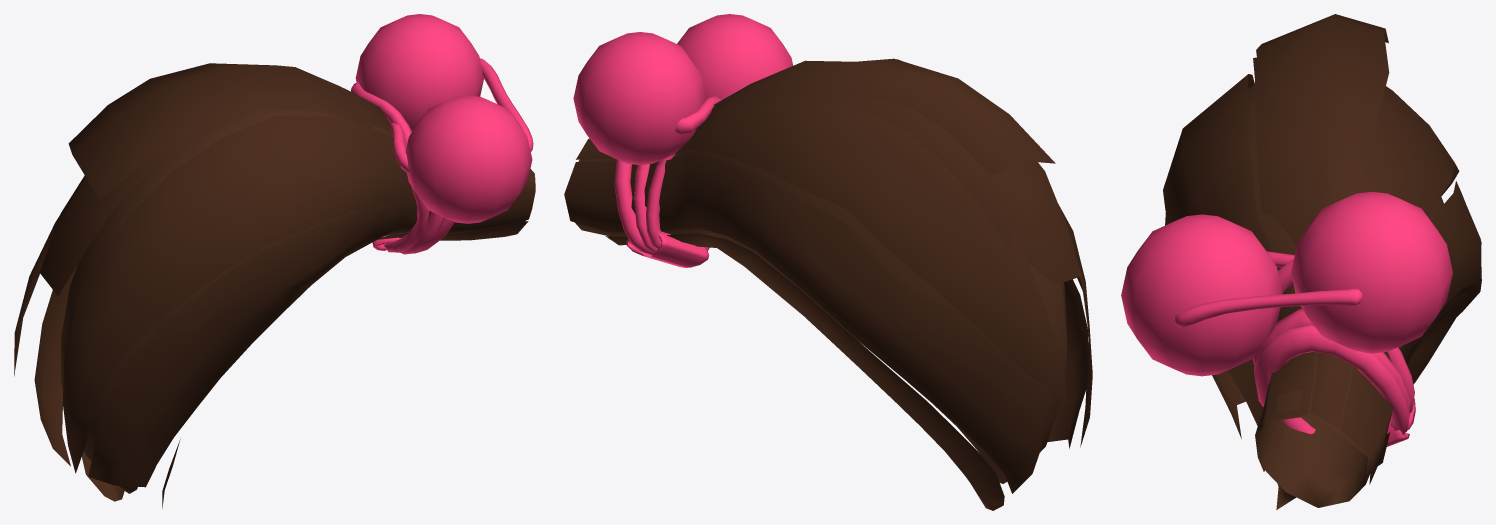
File: Player_Hair_L.fbx
The picture shows the model from 3 angles, left to right: view 1: azimuth 30°, elevation 25°; view 2: azimuth 150°, elevation 25°; view 3: azimuth 270°, elevation 25°; orthographic projection. The views are drawn at different scales.
Visible parts, largest first — view 1: Player_Hair_L, Player_HairBall_L_01, Player_HairBall_L_02; view 2: Player_Hair_L, Player_HairBall_L_02, Player_HairBall_L_01; view 3: Player_Hair_L, Player_HairBall_L_02, Player_HairBall_L_01.
Part boxes in pixels (x1,y1,x2,y2): Player_Hair_L: (14,58,535,508); Player_HairBall_L_01: (405,95,532,223); Player_HairBall_L_02: (355,14,483,131); Player_Hair_L: (564,58,1092,510); Player_HairBall_L_02: (573,32,706,164); Player_HairBall_L_01: (677,14,793,99); Player_Hair_L: (1163,14,1481,509); Player_HairBall_L_02: (1291,191,1452,353); Player_HairBall_L_01: (1121,214,1282,376).
Size of the model in its own units: 0.4676 by 0.3754 by 0.2396.
